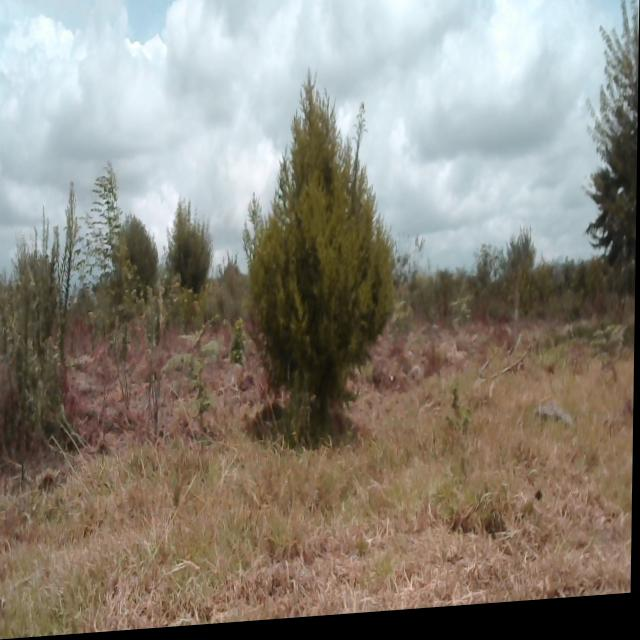cedrus: (236, 68, 416, 444), (162, 194, 220, 325), (112, 202, 160, 324)
